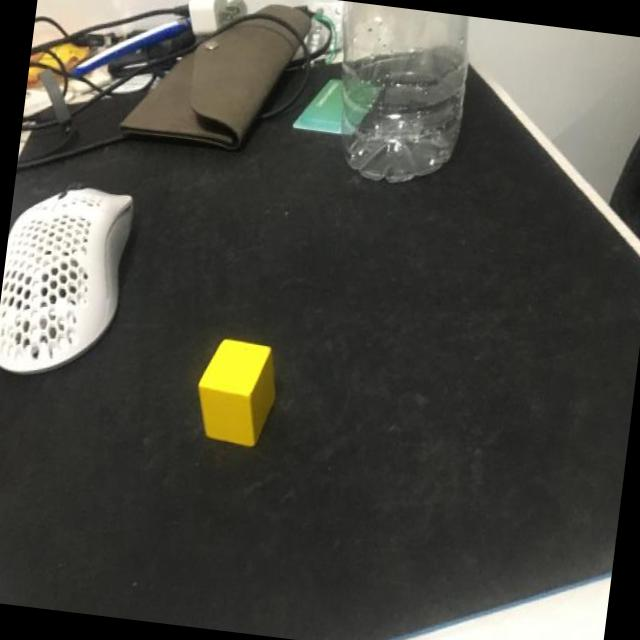yellow: (190, 337, 283, 450)
